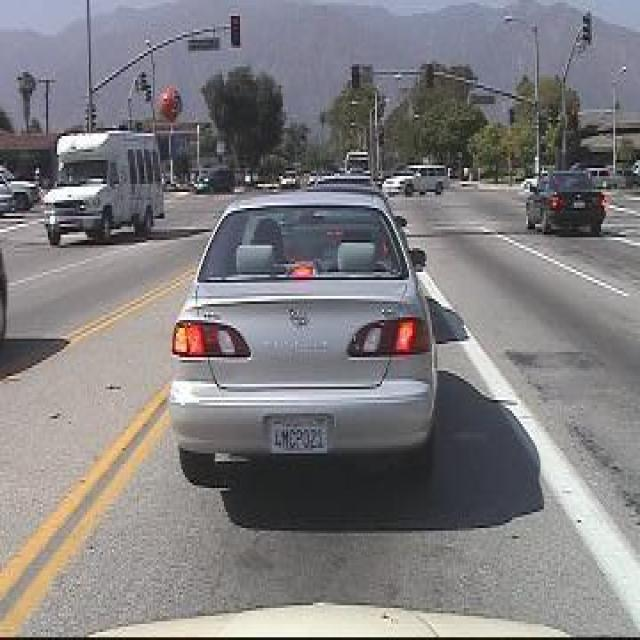bus_front: (36, 116, 172, 270)
car_back: (162, 180, 442, 514), (518, 158, 614, 248)
